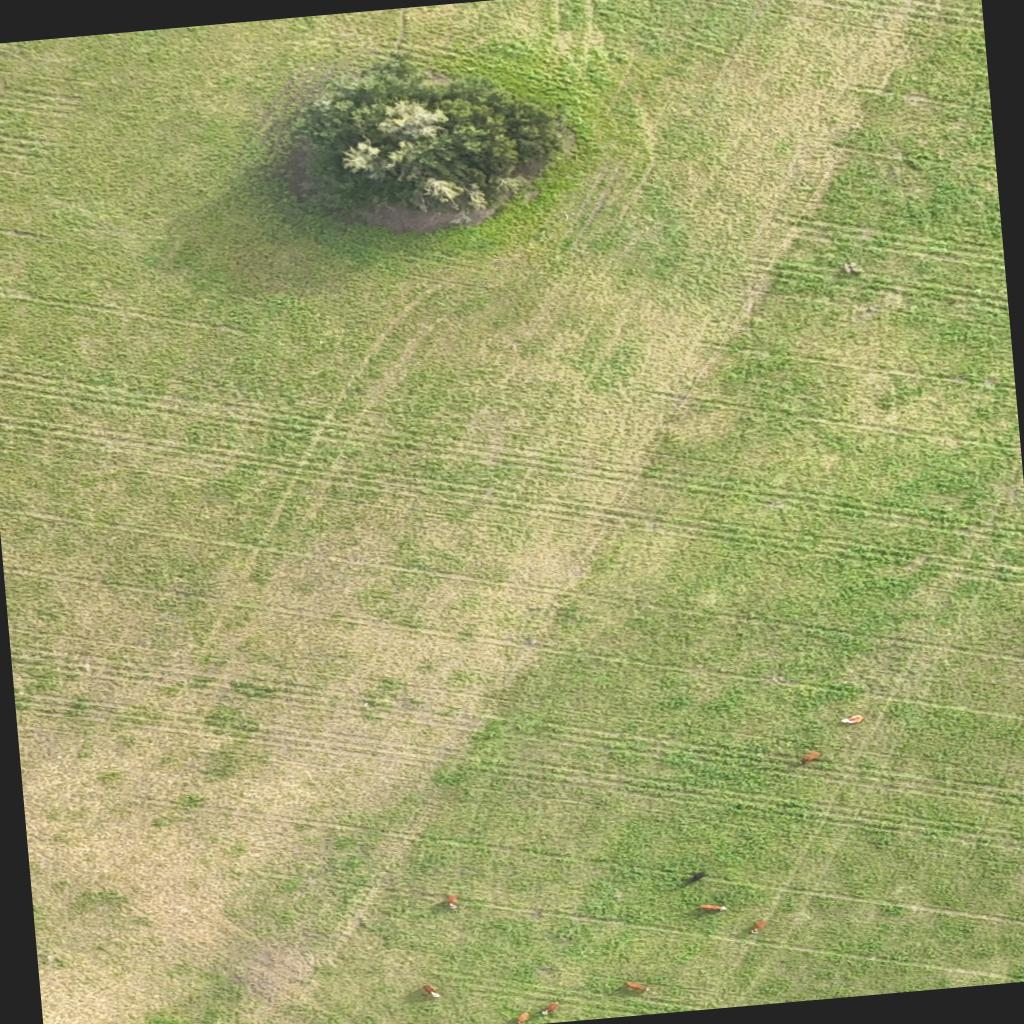cow: (794, 750, 822, 766), (696, 900, 728, 914), (835, 711, 863, 724), (624, 979, 648, 994), (684, 870, 708, 884), (444, 891, 462, 909), (749, 918, 769, 934), (422, 983, 442, 999), (540, 1001, 560, 1016), (513, 1009, 531, 1024)
